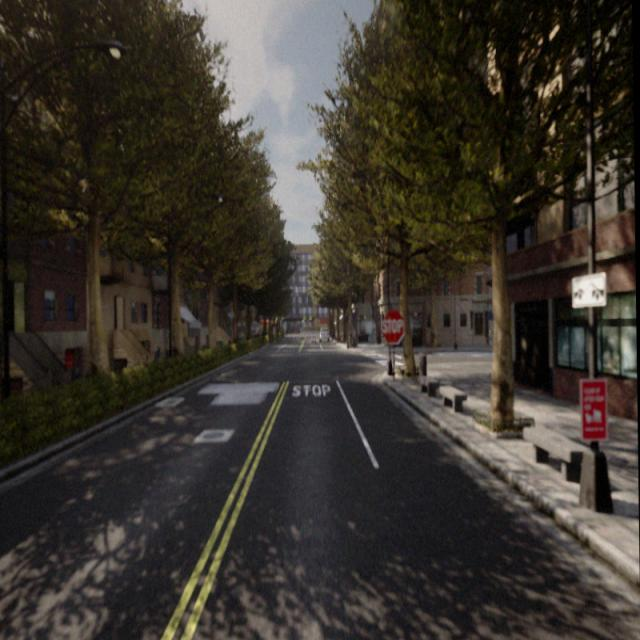stop sign: (379, 306, 406, 346)
